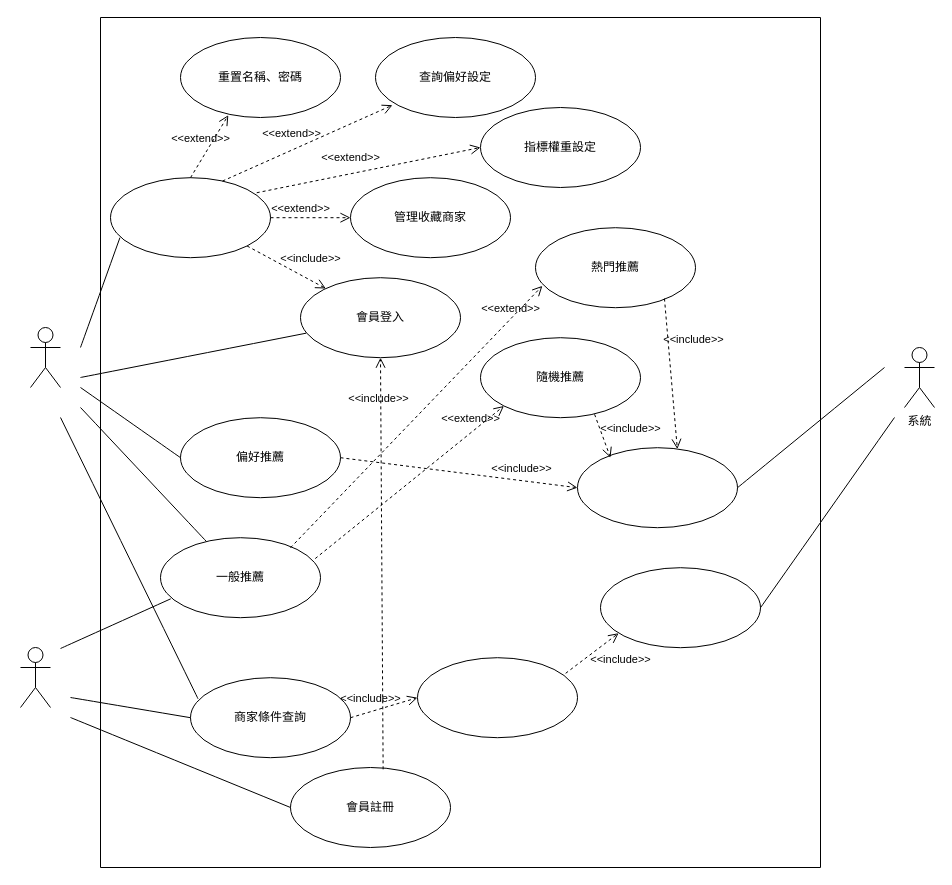
Image size: 952x885. Some labels were removed from this diagram. The shapes that lost their labels are listed below. From the top down, each one's centre as x and y in pixels, then its label:
point (190, 217): 會員資料管理
point (45, 357): 會員
point (657, 487): 特定商家推薦
point (680, 607): 情感分析執行
point (35, 677): 非會員
point (497, 697): 商家資訊檢視
